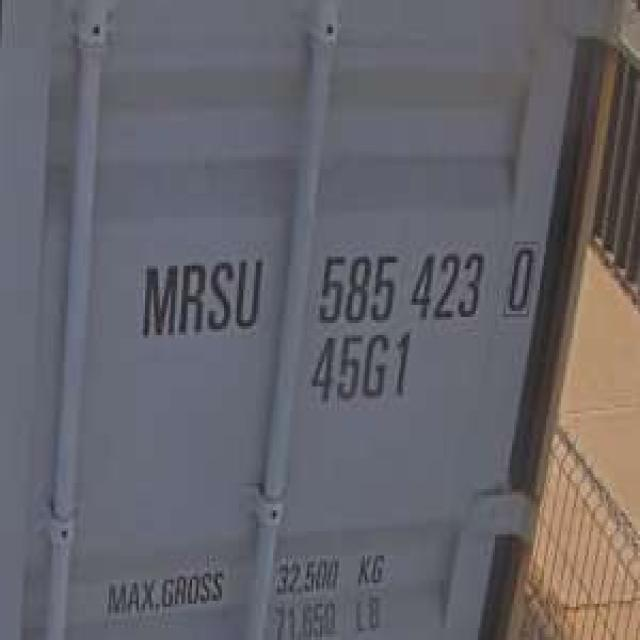dv: (501, 234, 540, 324)
owner: (134, 245, 272, 349)
serial: (312, 239, 488, 329)
size: (308, 331, 420, 411)
